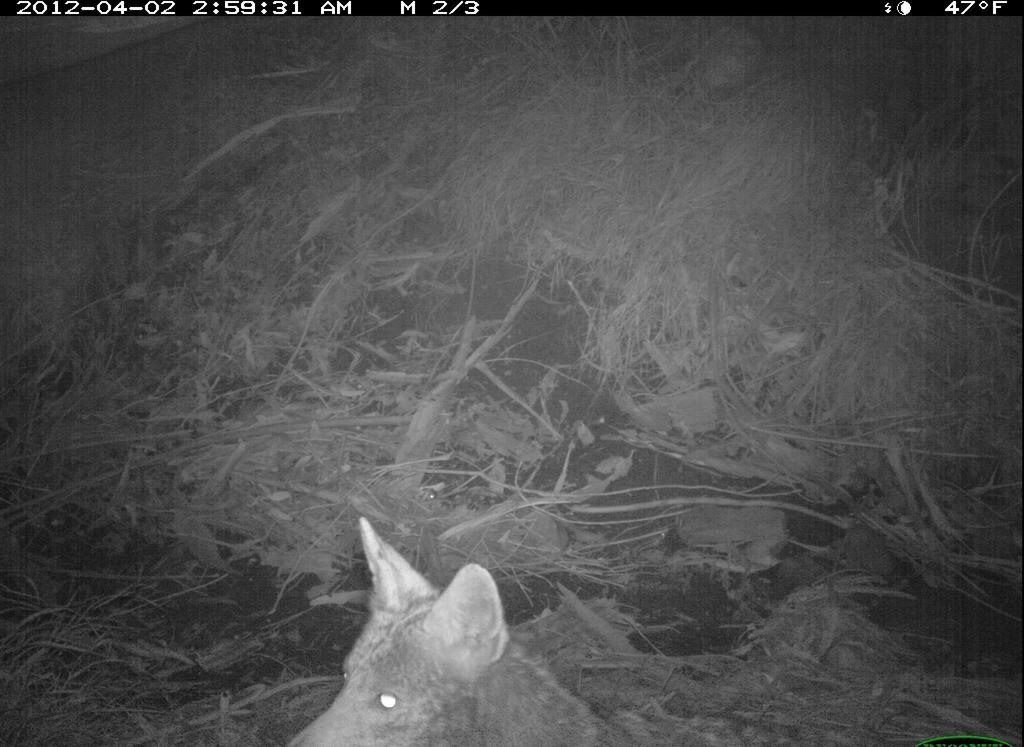coyote: (274, 500, 701, 747)
